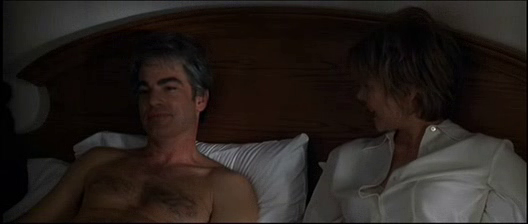face: (136, 70, 191, 137), (355, 64, 394, 132)
mcu: (1, 1, 528, 224)
person: (301, 6, 525, 222), (12, 30, 261, 222)
